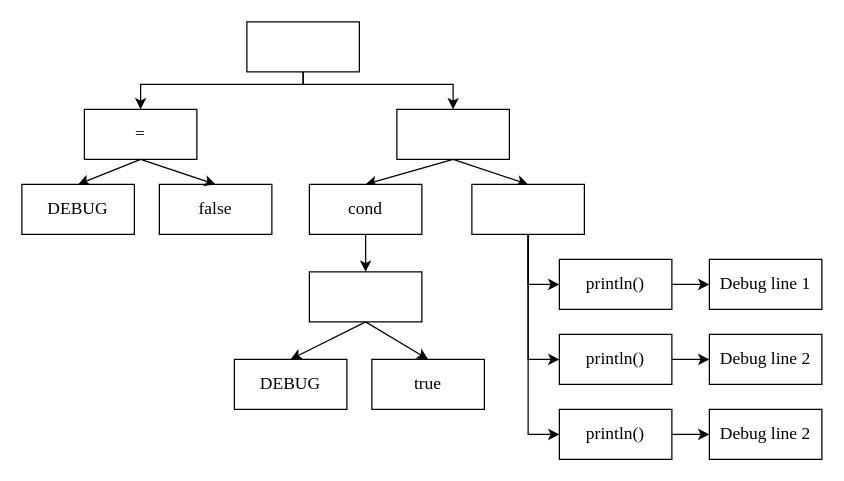
Image size: 844x481. Some labels were removed from this diagram. Here are the shapes that lost their labels. From the top down, the box of each, then its label:
(396, 108, 509, 159): if
(471, 183, 584, 234): body
(308, 271, 422, 322): EQ
